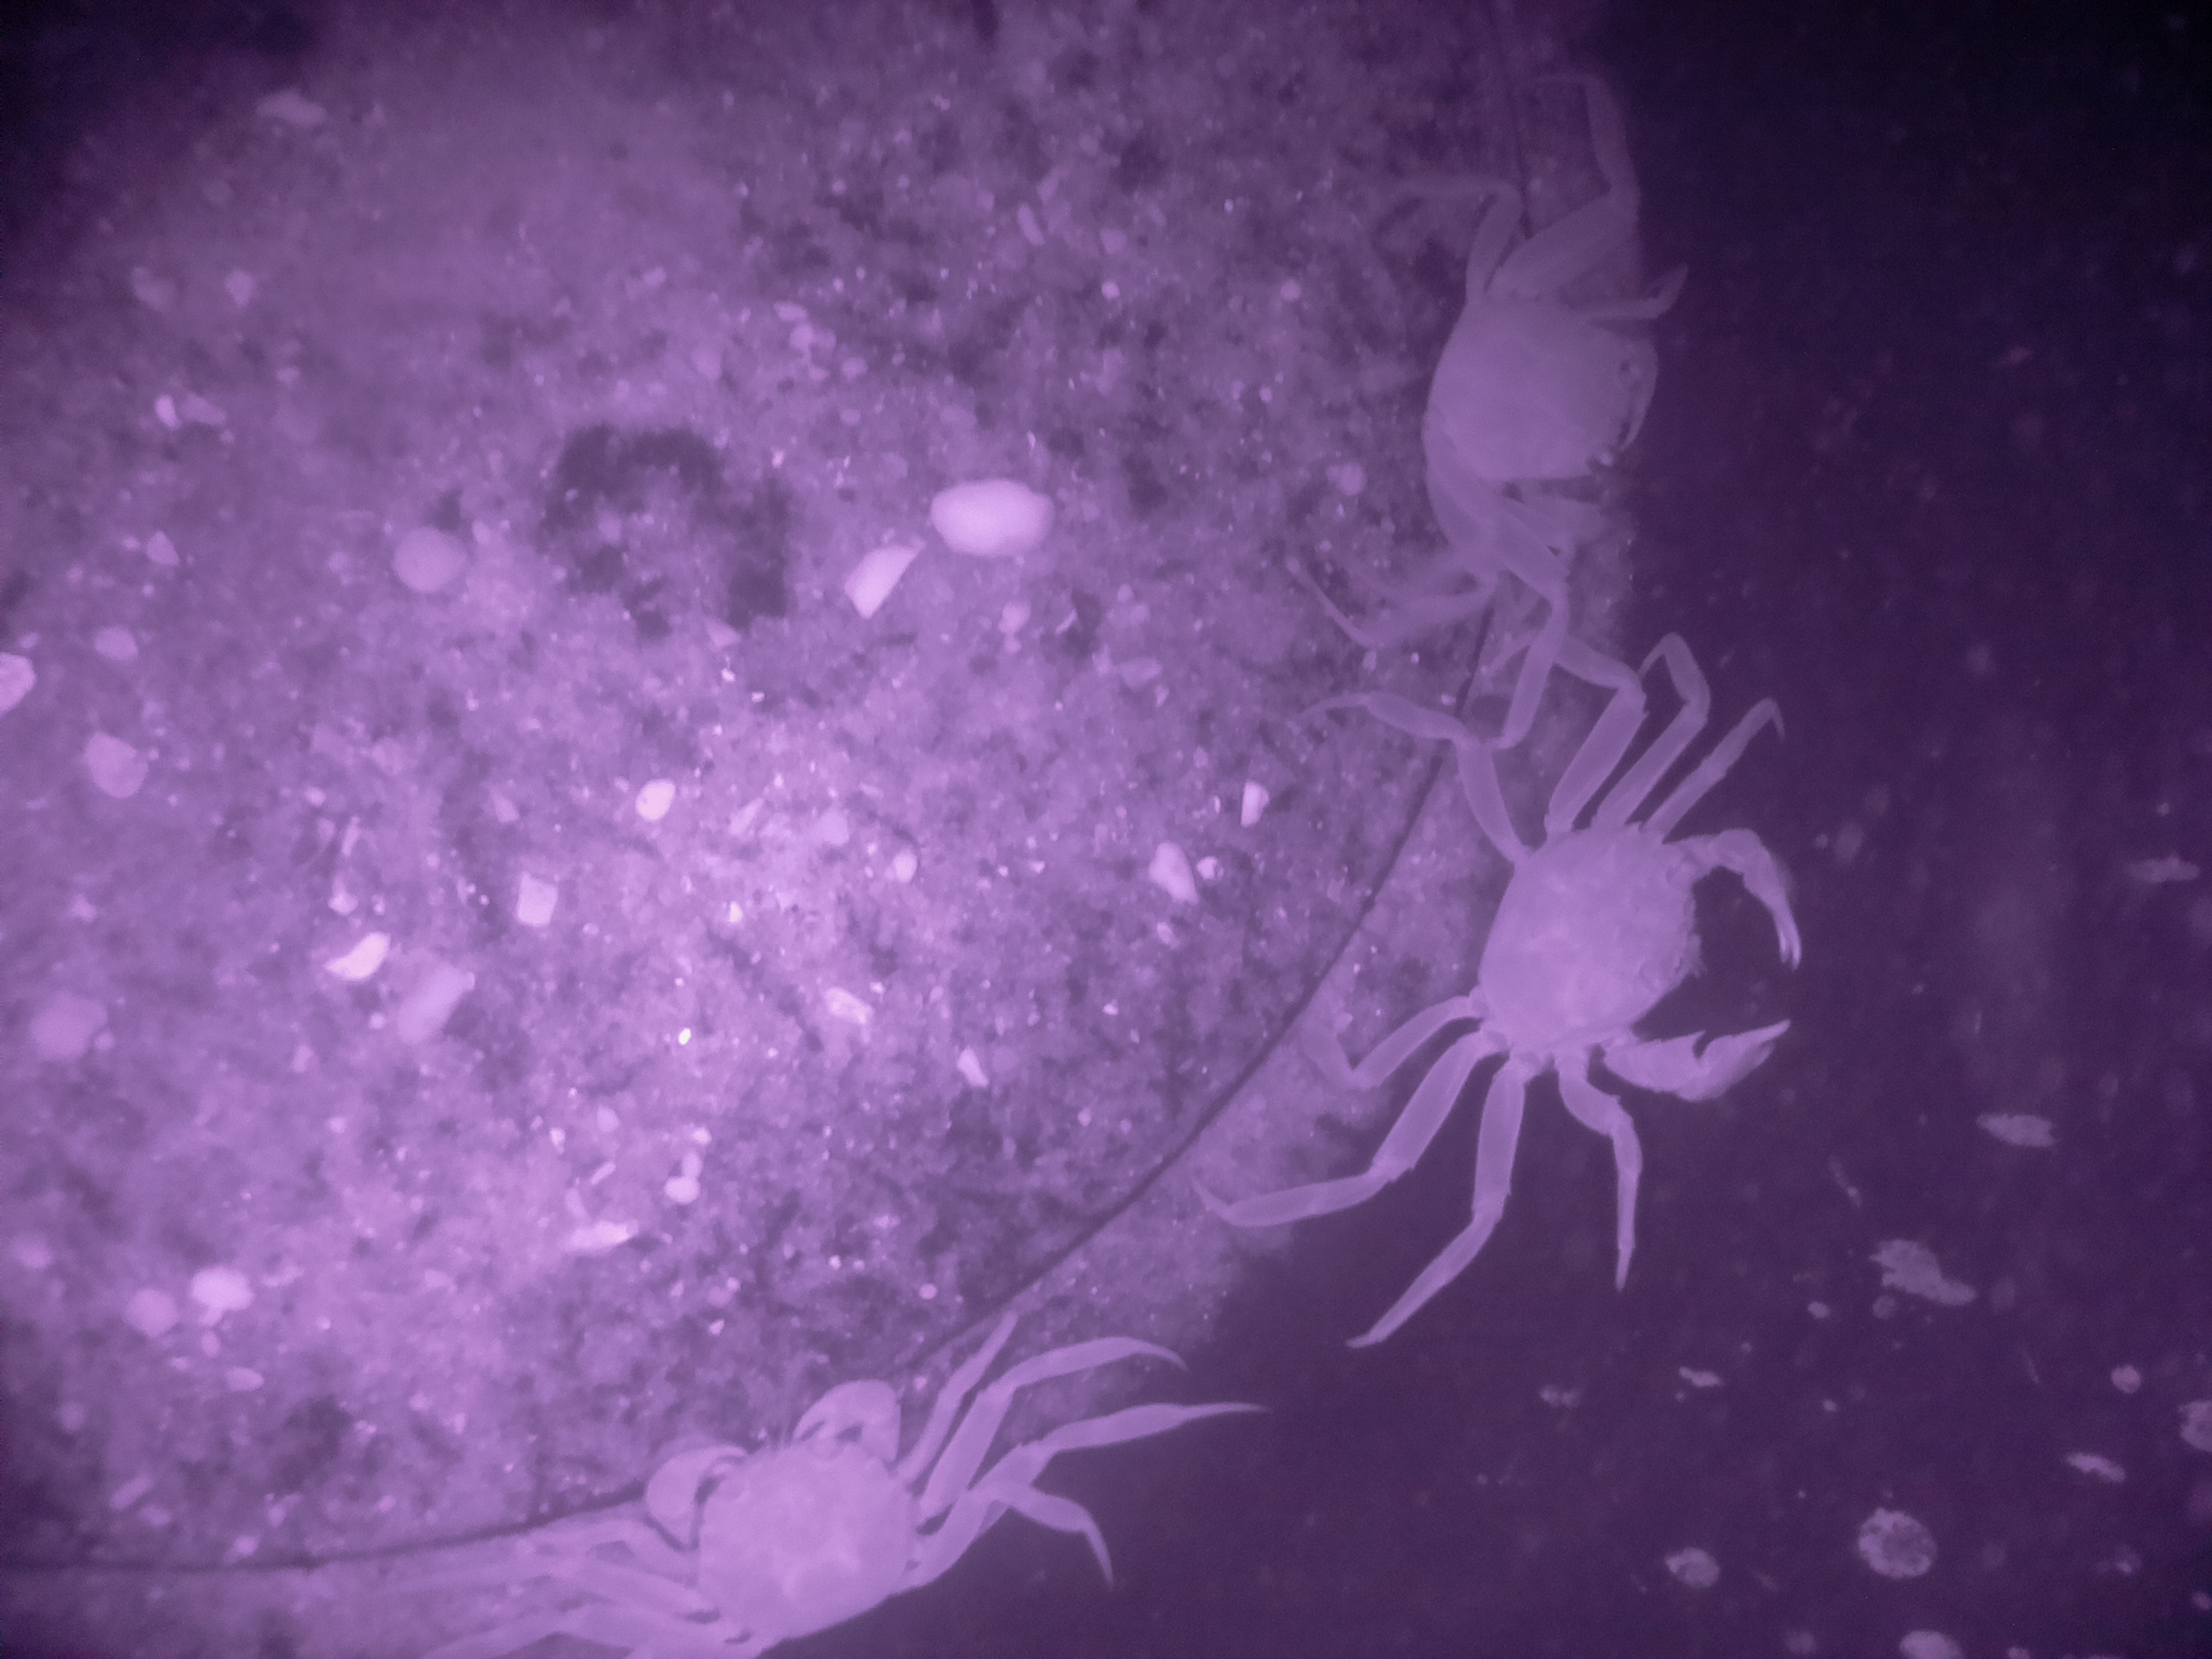Crab: (1346, 716, 1878, 1148), (1352, 143, 1752, 633), (559, 1342, 1022, 1659)
